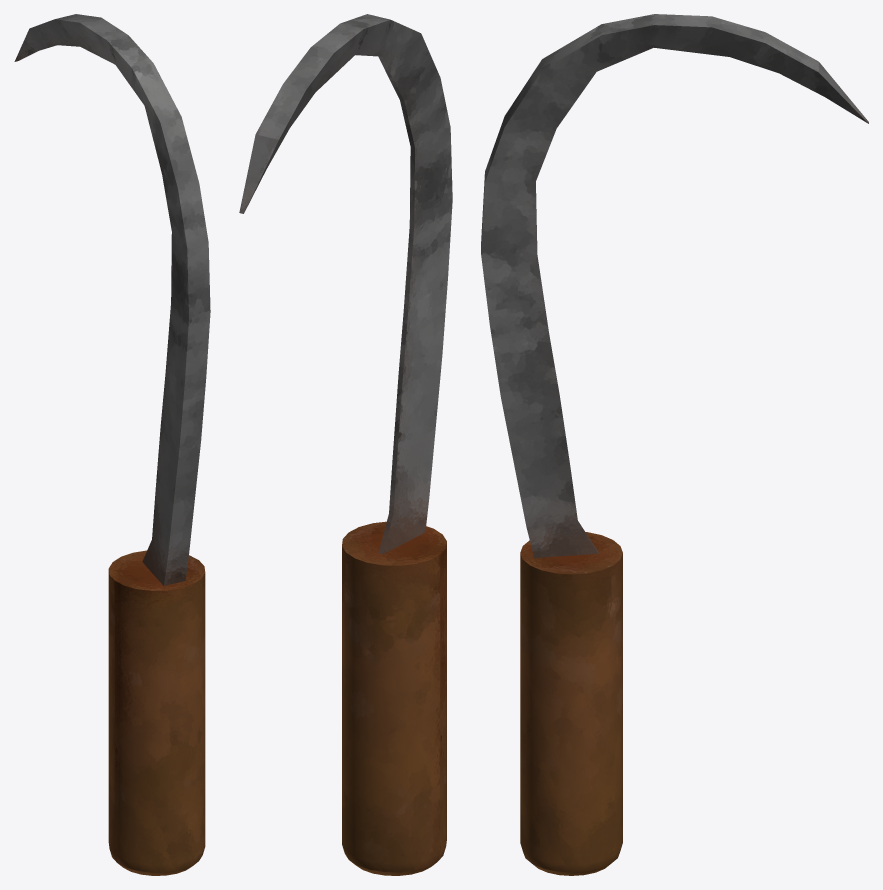
File: Foice.fbx
The picture shows the model from 3 angles, left to right: view 1: azimuth 30°, elevation 25°; view 2: azimuth 150°, elevation 25°; view 3: azimuth 270°, elevation 25°; orthographic projection. The views are drawn at different scales.
Parts seen in each view (by area): view 1: Foice_Mato_Pequena_MESH; view 2: Foice_Mato_Pequena_MESH; view 3: Foice_Mato_Pequena_MESH.
Boxes of the visible parts, x1,y1,x2,y2 form: Foice_Mato_Pequena_MESH: (14, 14, 210, 875); Foice_Mato_Pequena_MESH: (239, 14, 452, 875); Foice_Mato_Pequena_MESH: (481, 14, 868, 875).
Size of the model in its own units: 6.25 by 56.52 by 23.61.
1 material, 1 textured.
